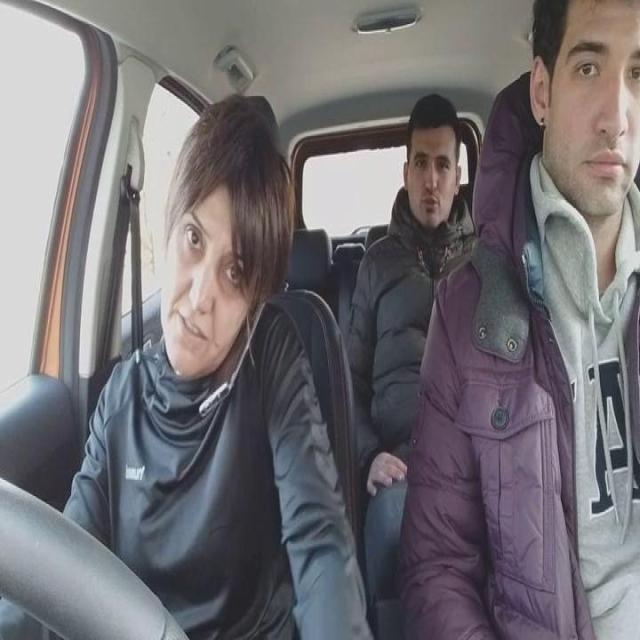phone: (194, 289, 272, 420)
